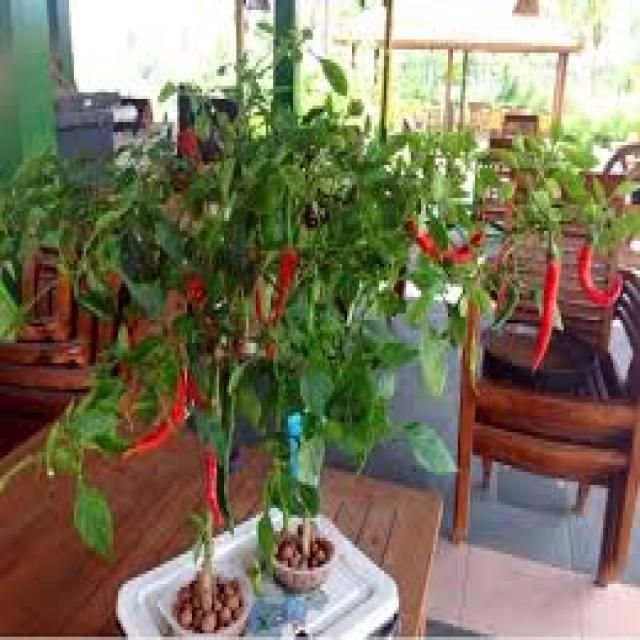sehat: (71, 488, 120, 572), (398, 424, 462, 479), (294, 358, 339, 420)
